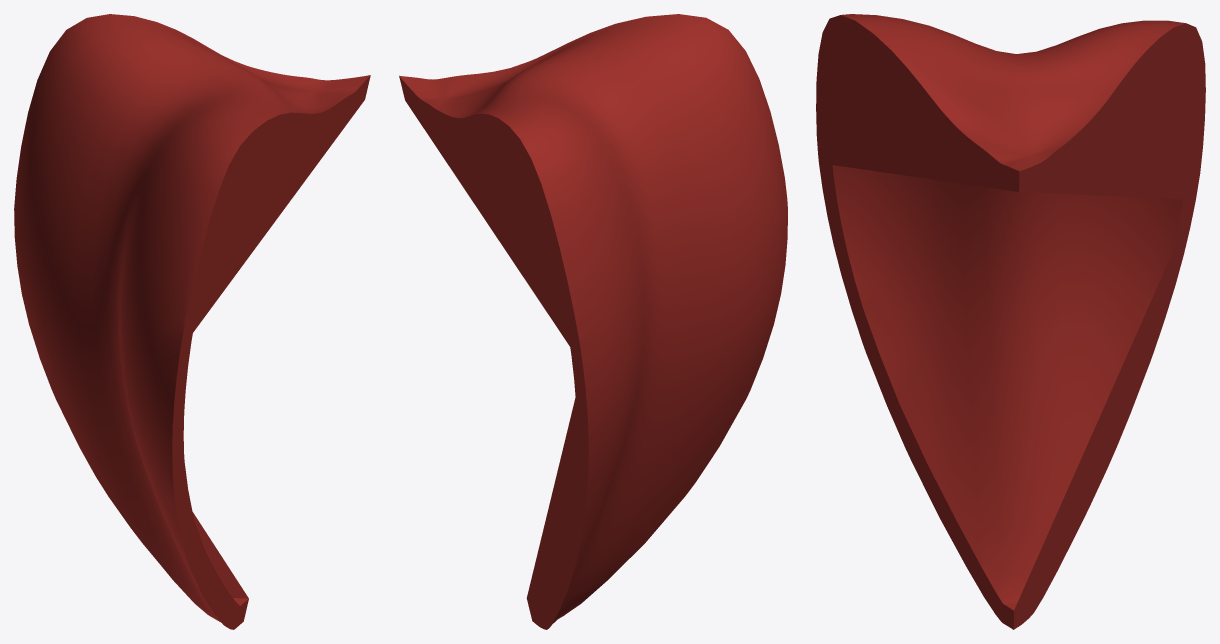
Rendered from Pepper_Slice_05.fbx.
3 views of the same model, side by side, from view 1: azimuth 30°, elevation 25°; view 2: azimuth 150°, elevation 25°; view 3: azimuth 270°, elevation 25° (orthographic). The views are drawn at different scales.
Visible parts, largest first — view 1: Pepper; view 2: Pepper; view 3: Pepper.
Part boxes in pixels (bbox=[...]): Pepper: bbox=[14, 14, 370, 629]; Pepper: bbox=[399, 14, 787, 629]; Pepper: bbox=[816, 14, 1205, 629].
Bounding box in the file's own units: 2061 × 3733 × 2291.
